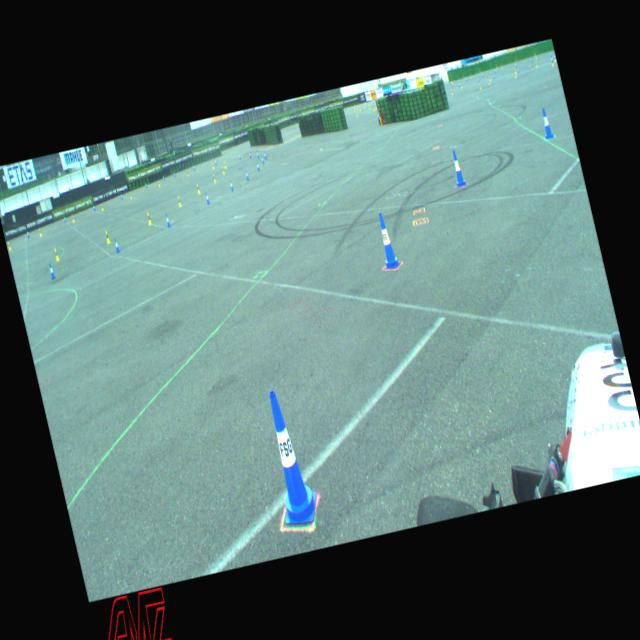blue_cone: (256, 384, 322, 528), (372, 209, 401, 270), (448, 148, 467, 186), (538, 106, 554, 139), (48, 262, 56, 279), (164, 212, 171, 227), (114, 236, 120, 252), (204, 192, 210, 204), (228, 180, 234, 190), (244, 169, 248, 180), (256, 161, 260, 171), (262, 150, 266, 160), (120, 192, 124, 200), (92, 203, 96, 211), (261, 155, 264, 164), (256, 150, 259, 158), (238, 152, 241, 160), (248, 150, 251, 158)
yellow_cone: (145, 211, 152, 225), (104, 228, 110, 244), (54, 247, 60, 260), (176, 194, 182, 207), (7, 240, 12, 250), (196, 182, 200, 194), (211, 172, 215, 182), (220, 165, 224, 174), (550, 58, 554, 66), (70, 214, 74, 222), (38, 228, 42, 236), (100, 202, 104, 210), (210, 161, 214, 169), (128, 191, 132, 199), (513, 71, 517, 79), (223, 160, 226, 170)
